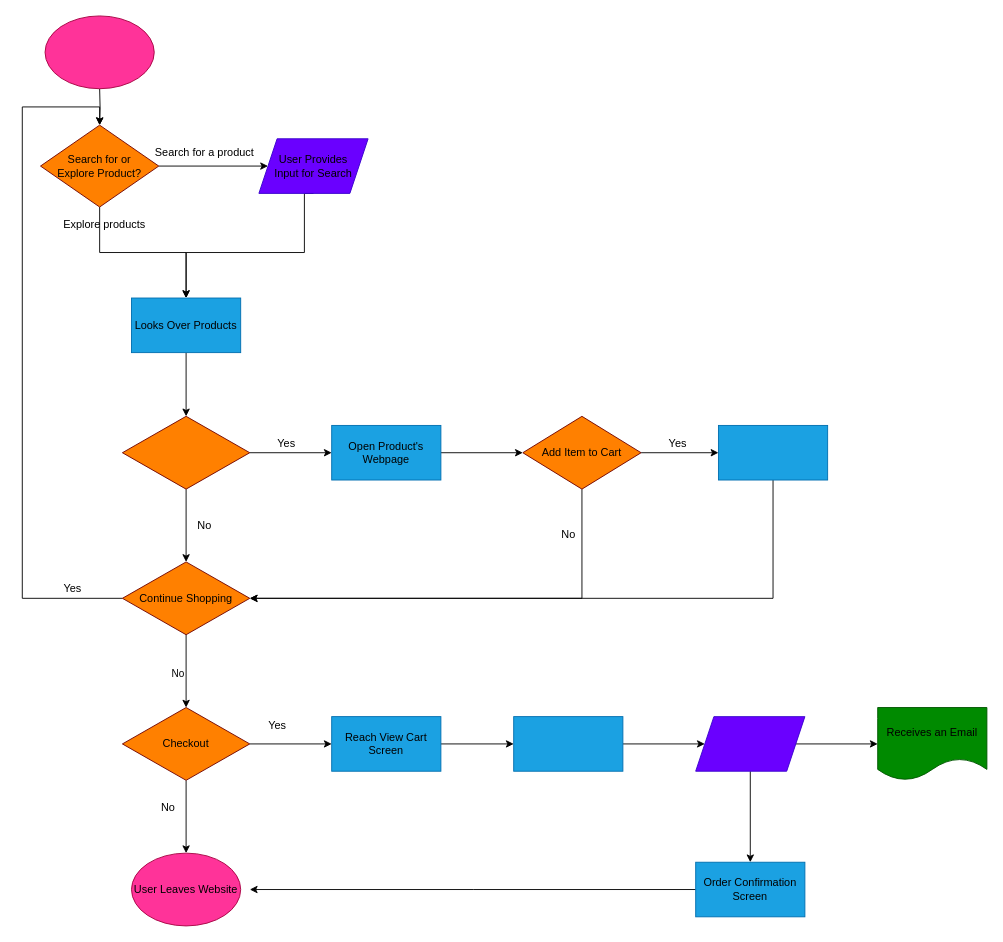
The diagram is 1003 pixels wide and 942 high, and some of its shapes have lost their labels. The shapes that lost their labels are listed below. From the top down, each one's centre as x and y in pixels, then its label:
At (x=99, y=52): "User Enters Website".
At (x=185, y=452): "View a Specific Product".
At (x=773, y=452): "Receive Added to Cart Confirmation".
At (x=568, y=743): "View Payment Screen".
At (x=750, y=743): "User Gives Payment Information".
